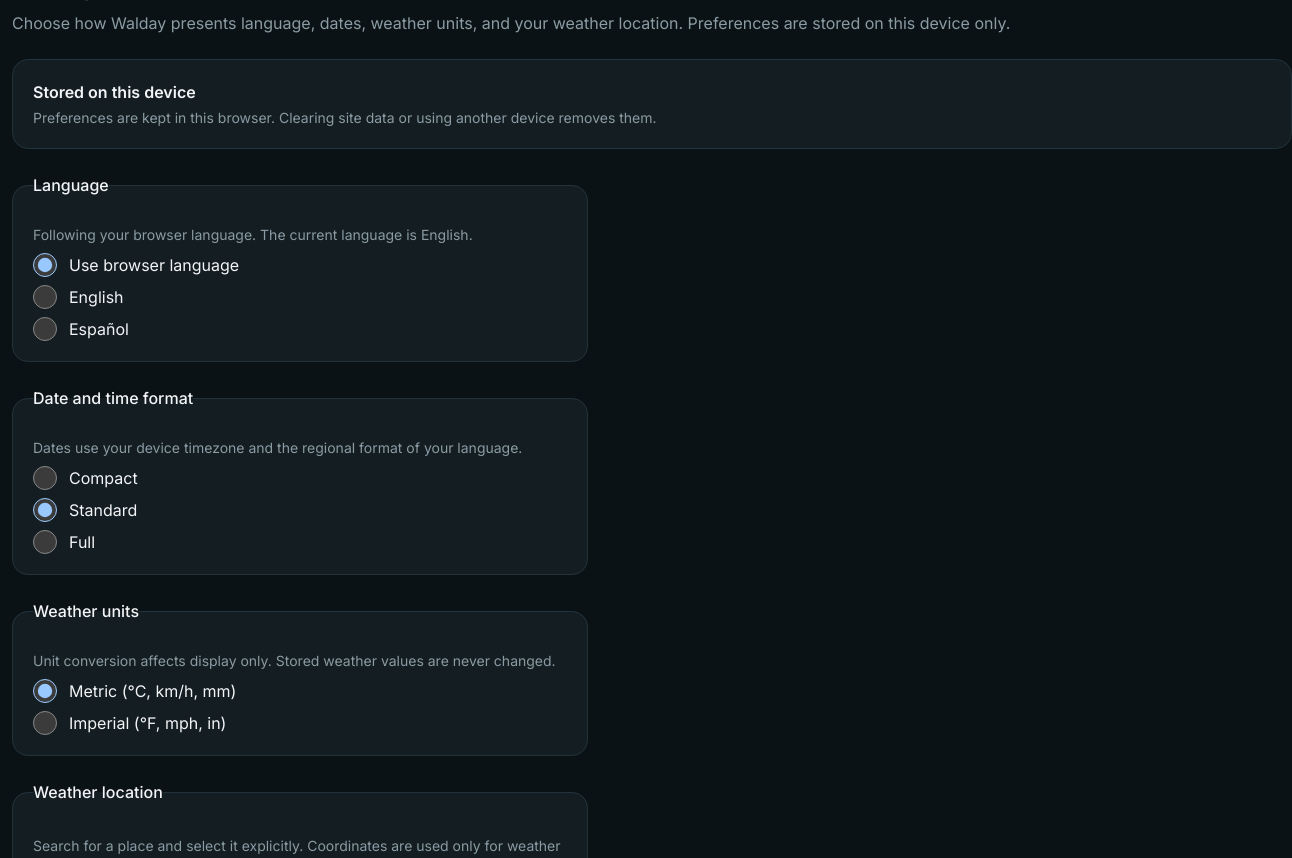
Test: draft handling (US3) › tracks a dirty draft and cancels back to the applied values
The width and height of the screenshot is (1292, 858).
expect the radio button labelled "Metric (°C, km/h, mm)" is checked: met, box top-left (33, 679), bottom-right (57, 703)
What coordinates should you click on to do the following:
click the radio button labelled "Imperial (°F, mph, in)"
I would click on:
 (45, 723)
Its box is top-left (33, 711), bottom-right (57, 735).
(page scrolled)
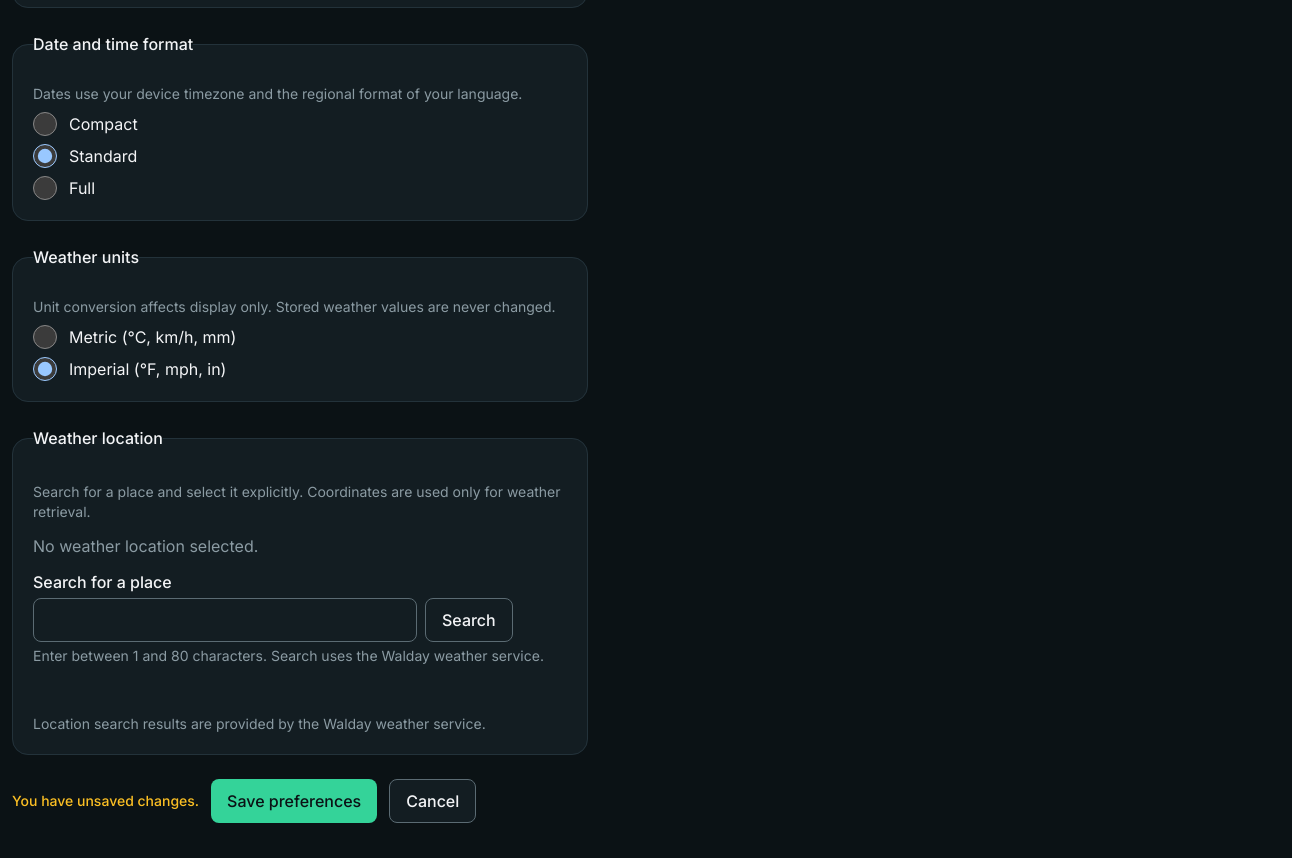
expect the radio button labelled "Imperial (°F, mph, in)" is checked: met, box top-left (33, 357), bottom-right (57, 381)
expect the text "You have unsaved changes." is shown: met, box top-left (12, 791), bottom-right (199, 811)
What coordinates should you click on to do the following:
click the button "Cancel"
I would click on:
 (433, 801)
Its box is top-left (389, 779), bottom-right (476, 823).
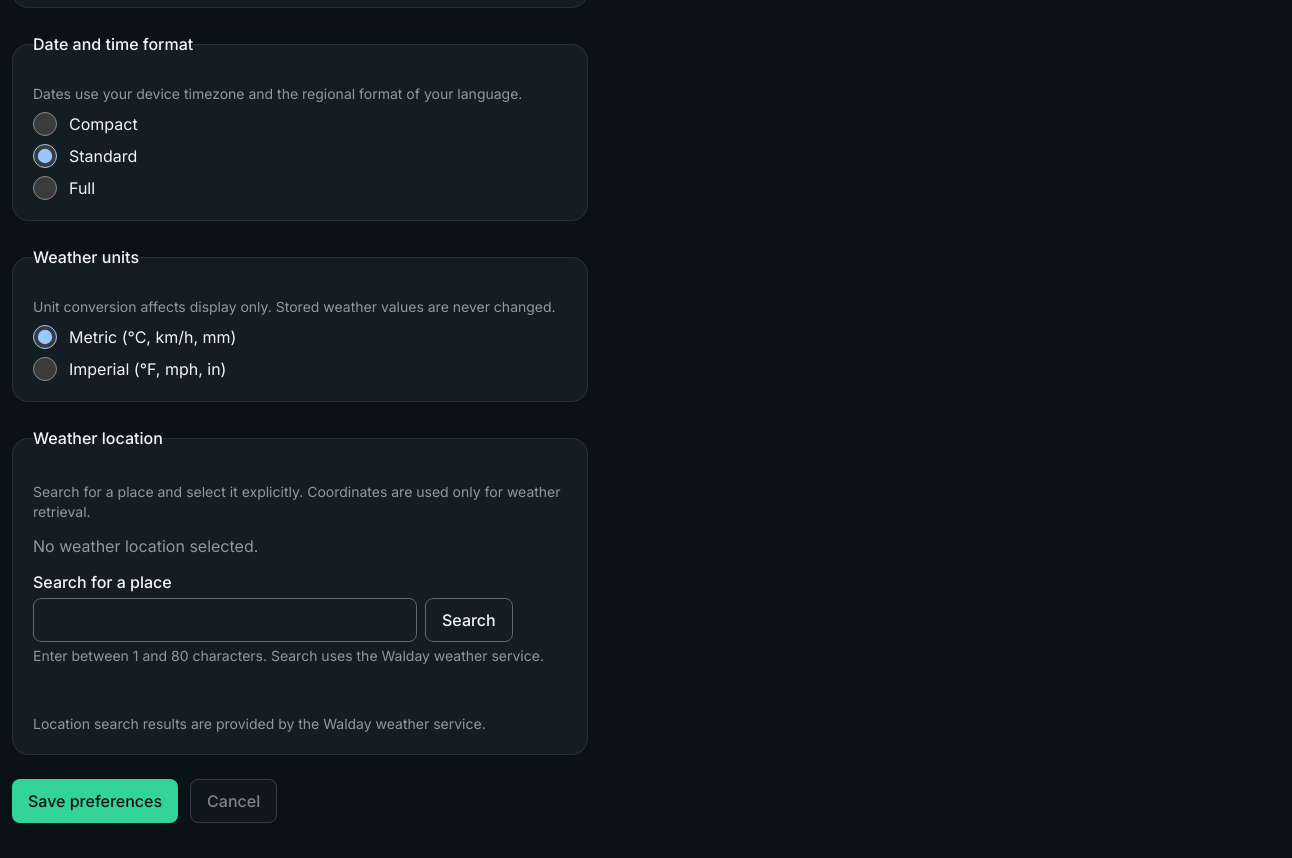
expect the radio button labelled "Imperial (°F, mph, in)" is not checked: met, box top-left (33, 357), bottom-right (57, 381)
expect the radio button labelled "Metric (°C, km/h, mm)" is checked: met, box top-left (33, 325), bottom-right (57, 349)
expect the text "You have unsaved changes." is gone: met
